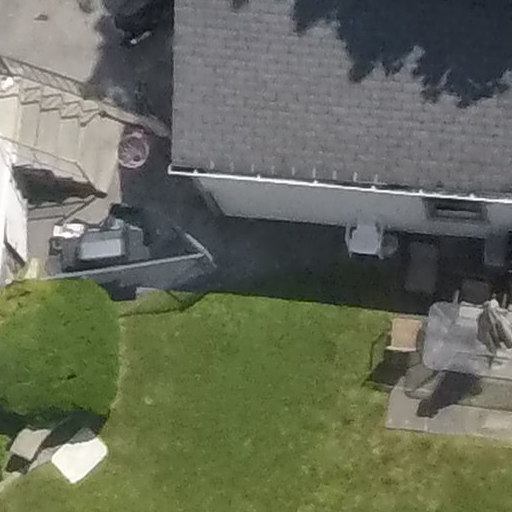barbecue: (43, 224, 166, 279)
bench: (8, 410, 82, 473)
chair: (341, 204, 395, 265), (376, 310, 434, 366)
container: (113, 121, 156, 173)
